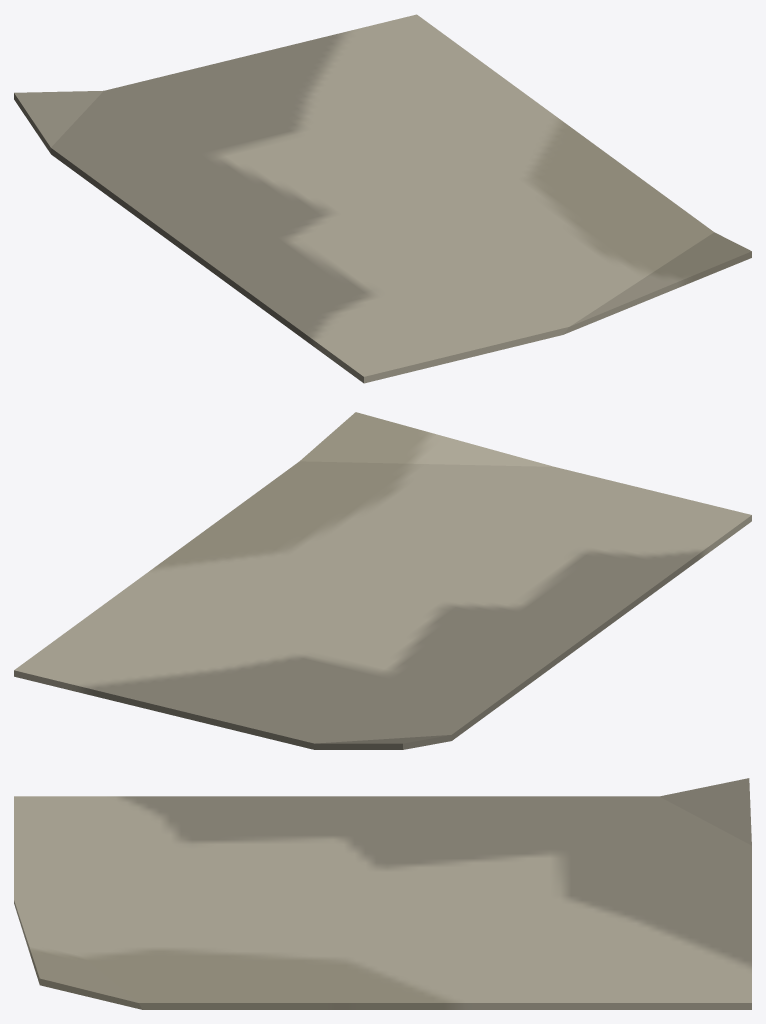
File: SM_Prop_Paper_Sheet_01.fbx
The picture shows the model from 3 angles, top to bottom: view 1: azimuth 30°, elevation 25°; view 2: azimuth 150°, elevation 25°; view 3: azimuth 270°, elevation 25°; orthographic projection. The views are drawn at different scales.
Parts seen in each view (by area): view 1: SM_Prop_Paper_Sheet_01; view 2: SM_Prop_Paper_Sheet_01; view 3: SM_Prop_Paper_Sheet_01.
Boxes of the visible parts, x1,y1,x2,y2 form: SM_Prop_Paper_Sheet_01: [14, 14, 751, 383]; SM_Prop_Paper_Sheet_01: [14, 412, 751, 749]; SM_Prop_Paper_Sheet_01: [14, 778, 751, 1009].
Bounding box in the file's own units: 28.64 × 1.86 × 43.22.
